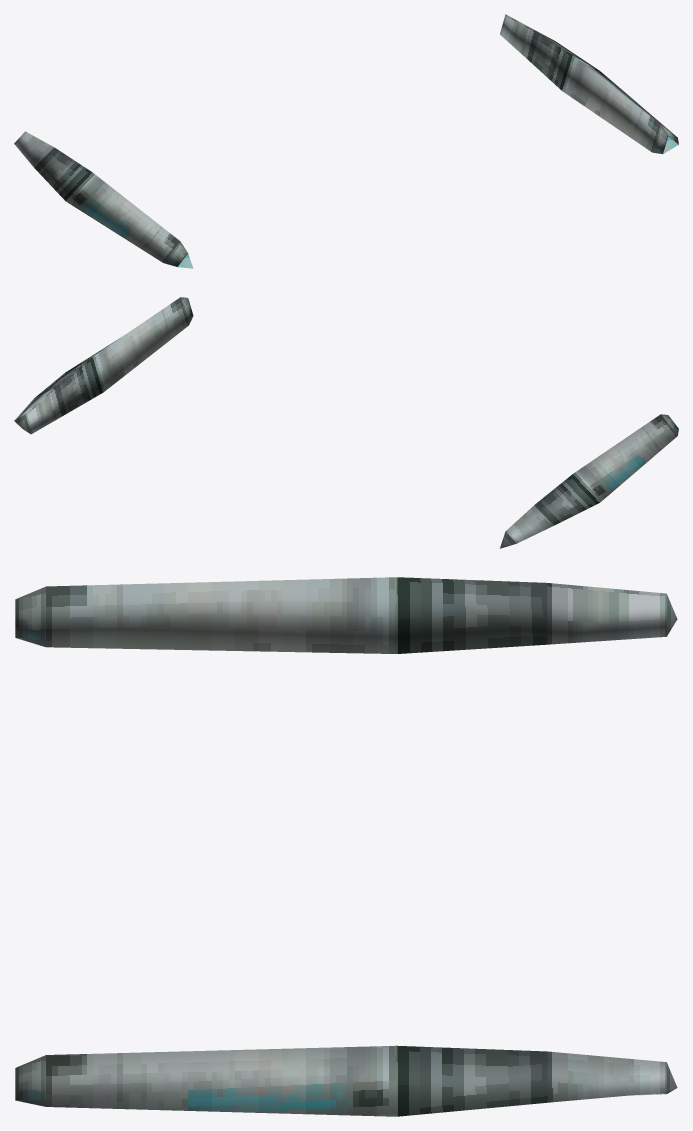
Rendered from black_sun_fighter_heavy_weapon3_s02_l3.fbx.
3 views of the same model, one above another, from view 1: azimuth 30°, elevation 25°; view 2: azimuth 150°, elevation 25°; view 3: azimuth 270°, elevation 25° (orthographic). The views are drawn at different scales.
Parts seen in each view (by area): view 1: mesh_node; view 2: mesh_node; view 3: mesh_node.
Part boxes in pixels (bbox=[...]): mesh_node: bbox=[14, 14, 678, 268]; mesh_node: bbox=[14, 297, 678, 548]; mesh_node: bbox=[15, 577, 677, 1116].
Size of the model in its own units: 13.29 by 0.7911 by 7.13.
Materials: 1 (1 with a texture image).
